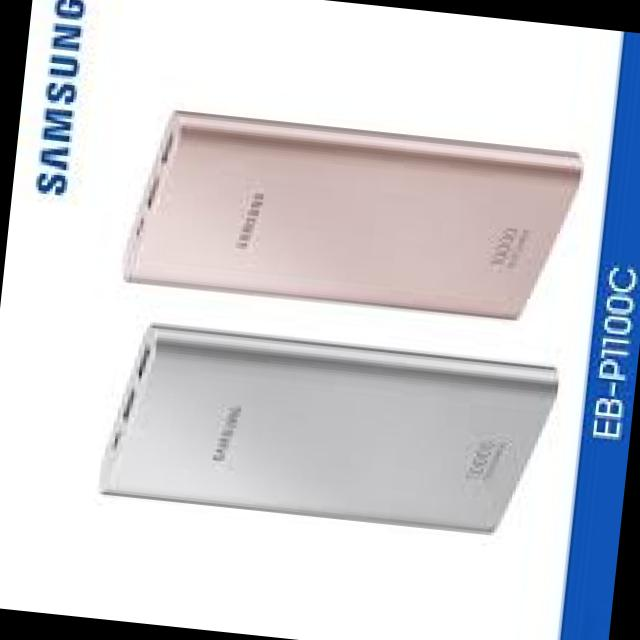portable-charger: (120, 100, 594, 334), (90, 314, 564, 541)
